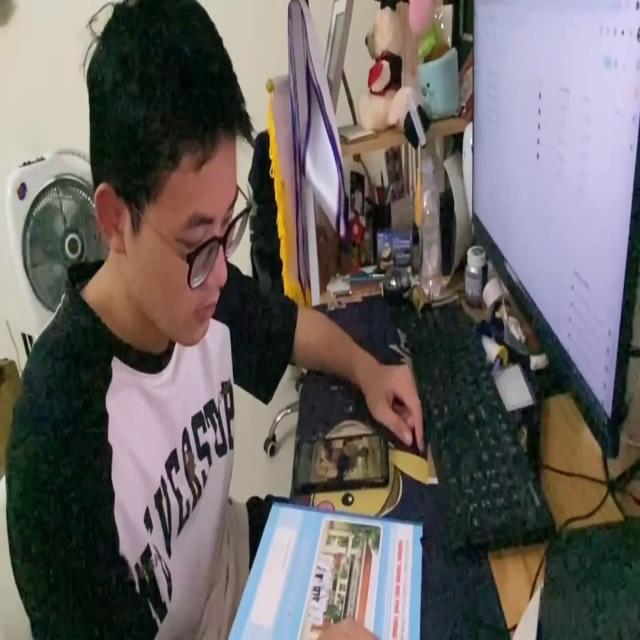book: (230, 499, 423, 640)
laptop: (469, 0, 639, 461)
phone: (291, 431, 391, 491)
student: (4, 0, 427, 635)
